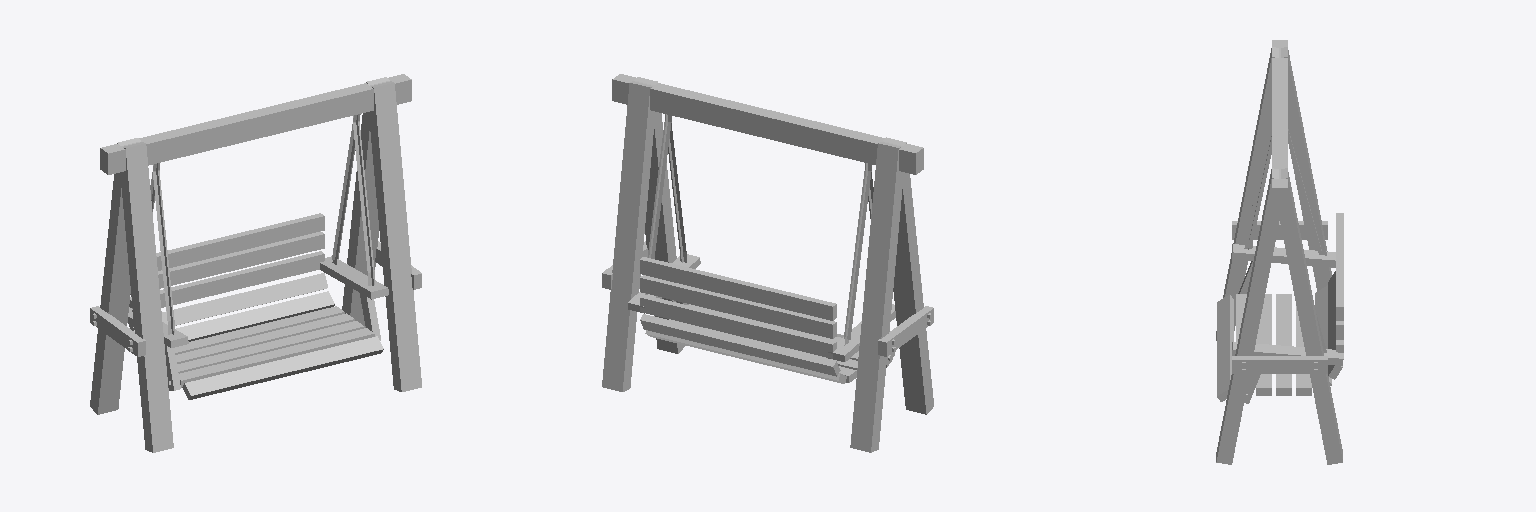
File: 3477_swingchair.obj
3 renders of one model, left to right at view 1: azimuth 30°, elevation 25°; view 2: azimuth 150°, elevation 25°; view 3: azimuth 270°, elevation 25°, orthographic.
Visible parts, largest first — view 1: Leg3, Leg1, Leg2, plank1, Top2, Top1, Leg4, plank10, plank9, plank8, plank7, plank6 (+12 smaller); view 2: Leg4, Leg2, Leg1, plank10, plank8, plank9, Top1, Top2, plank7, Leg3, chain2, plank6 (+6 smaller); view 3: Leg3, Leg4, Leg1, Leg2, chain1a, armrest2, shelf2a, plank1, plank4, plank3, plank10, Top1 (+3 smaller).
Boxes of the visible parts, <box> form: Leg3: <box>369,81,421,391</box>; Leg1: <box>120,142,173,452</box>; Leg2: <box>90,138,140,414</box>; plank1: <box>182,336,383,399</box>; Top2: <box>253,84,370,137</box>; Top1: <box>143,111,259,164</box>; Leg4: <box>342,77,389,327</box>; plank10: <box>156,213,324,270</box>; plank9: <box>130,231,324,294</box>; plank8: <box>129,251,324,307</box>; plank7: <box>129,273,327,331</box>; plank6: <box>176,291,334,341</box>; Leg4: <box>602,81,655,391</box>; Leg2: <box>850,142,903,452</box>; Leg1: <box>883,137,933,414</box>; plank10: <box>640,257,836,320</box>; plank8: <box>640,295,836,358</box>; plank9: <box>640,275,836,338</box>; Top1: <box>764,111,881,164</box>; Top2: <box>654,84,771,137</box>; plank7: <box>640,314,840,376</box>; Leg3: <box>634,77,684,353</box>; chain2: <box>648,121,871,339</box>; plank6: <box>645,330,846,383</box>; Leg3: <box>1216,168,1281,464</box>; Leg4: <box>1278,168,1342,464</box>; Leg1: <box>1216,47,1278,340</box>; Leg2: <box>1281,47,1331,291</box>; chain1a: <box>1246,114,1326,352</box>; armrest2: <box>1232,244,1343,365</box>; shelf2a: <box>1232,356,1327,373</box>; plank1: <box>1217,294,1233,401</box>; plank4: <box>1276,294,1291,395</box>; plank3: <box>1256,294,1271,395</box>; plank10: <box>1336,213,1343,320</box>; Top1: <box>1272,60,1287,113</box>.
Size of the model in its own units: 2.75 by 2.48 by 0.9984.